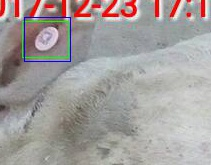text: (22, 21, 68, 57)
